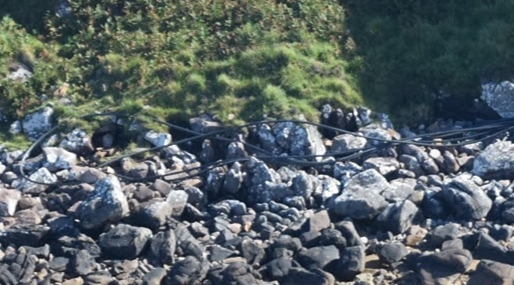more_tube: (14, 109, 205, 186), (226, 115, 357, 169), (363, 122, 514, 159)
